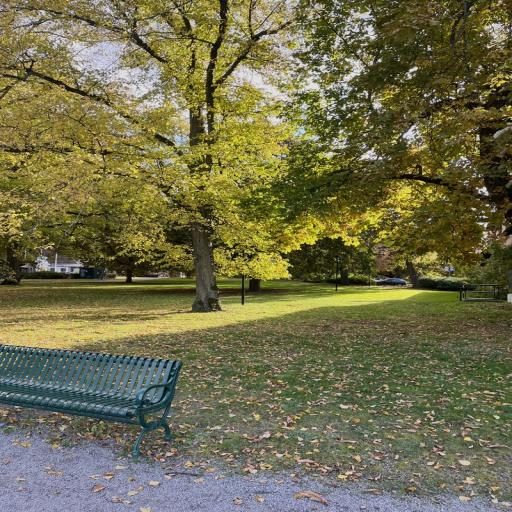trash_bin: (0, 345, 182, 457)
